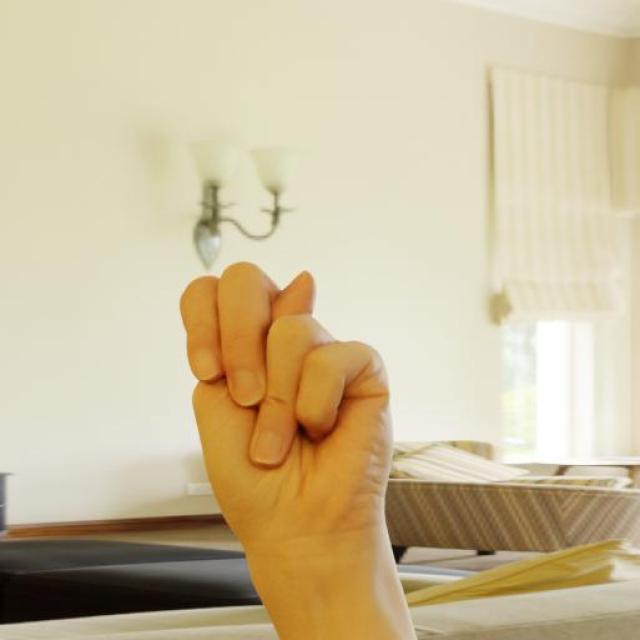N: (177, 258, 394, 533)
